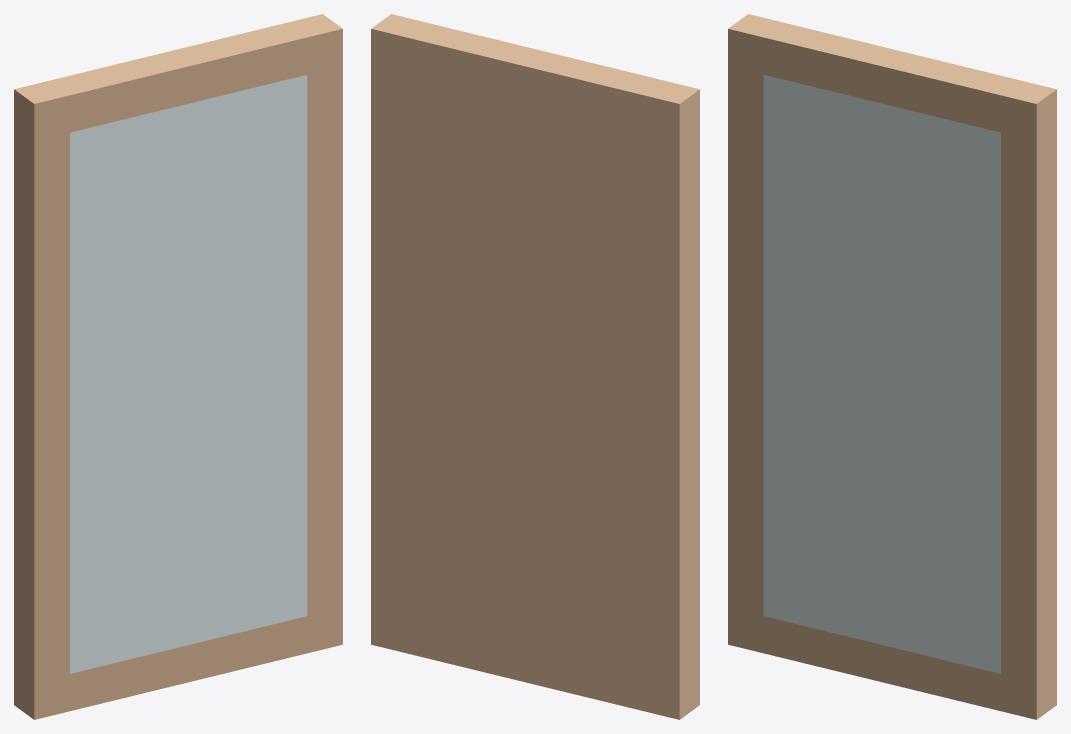
File: Bathroom_Cabinet.glb
The picture shows the model from 3 angles, left to right: view 1: azimuth 30°, elevation 25°; view 2: azimuth 150°, elevation 25°; view 3: azimuth 330°, elevation 25°; orthographic projection.
Visible parts, largest first — view 1: Bathroom_Cabinet; view 2: Bathroom_Cabinet; view 3: Bathroom_Cabinet.
Part boxes in pixels (left/top/right/bottom): Bathroom_Cabinet: left=14, top=14, right=342, bottom=719; Bathroom_Cabinet: left=371, top=14, right=699, bottom=719; Bathroom_Cabinet: left=728, top=14, right=1056, bottom=719.
Size of the model in its own units: 0.1763 by 0.3363 by 0.02.
